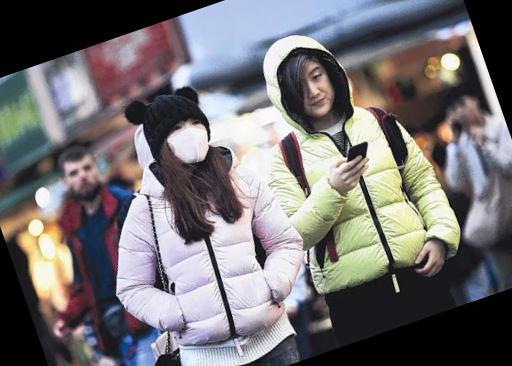with_mask: (162, 114, 215, 169)
without_mask: (291, 61, 341, 121), (63, 157, 104, 202), (448, 98, 478, 126)
